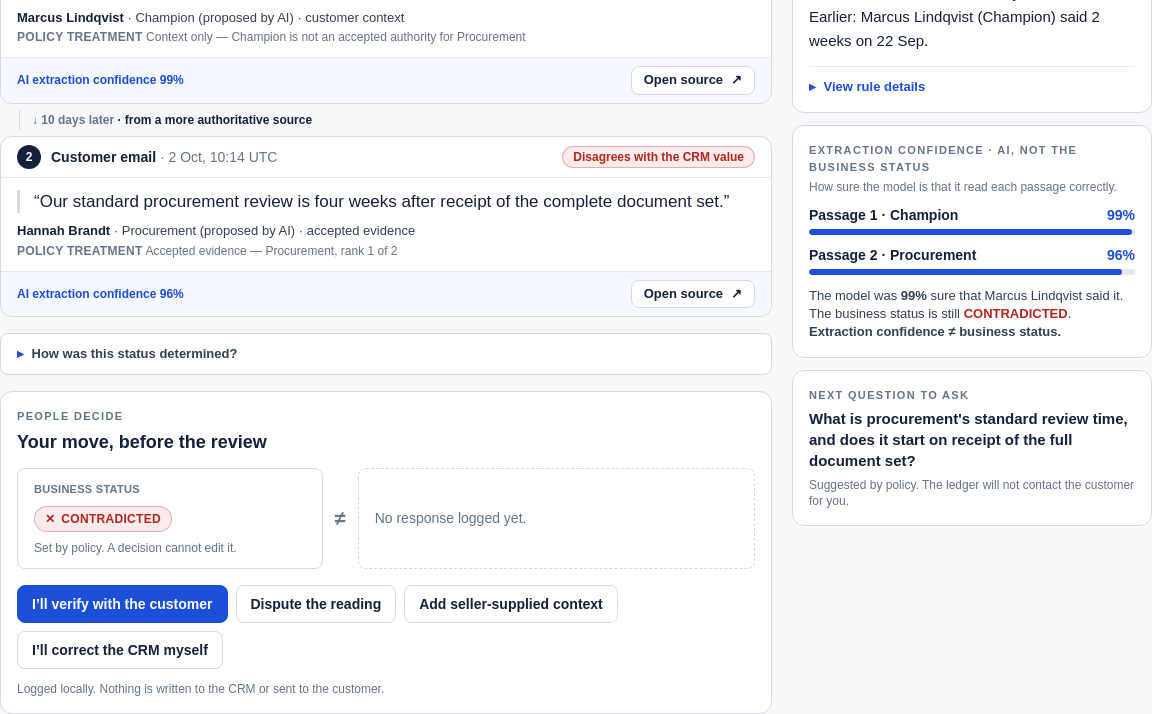
Scenario: Presentation polish › the rep dispute modal uses the agreed copy and does not imply the status changes
(page scrolled)
Click the button "Dispute the reading": coordinates (316, 604) [236,585,396,623]
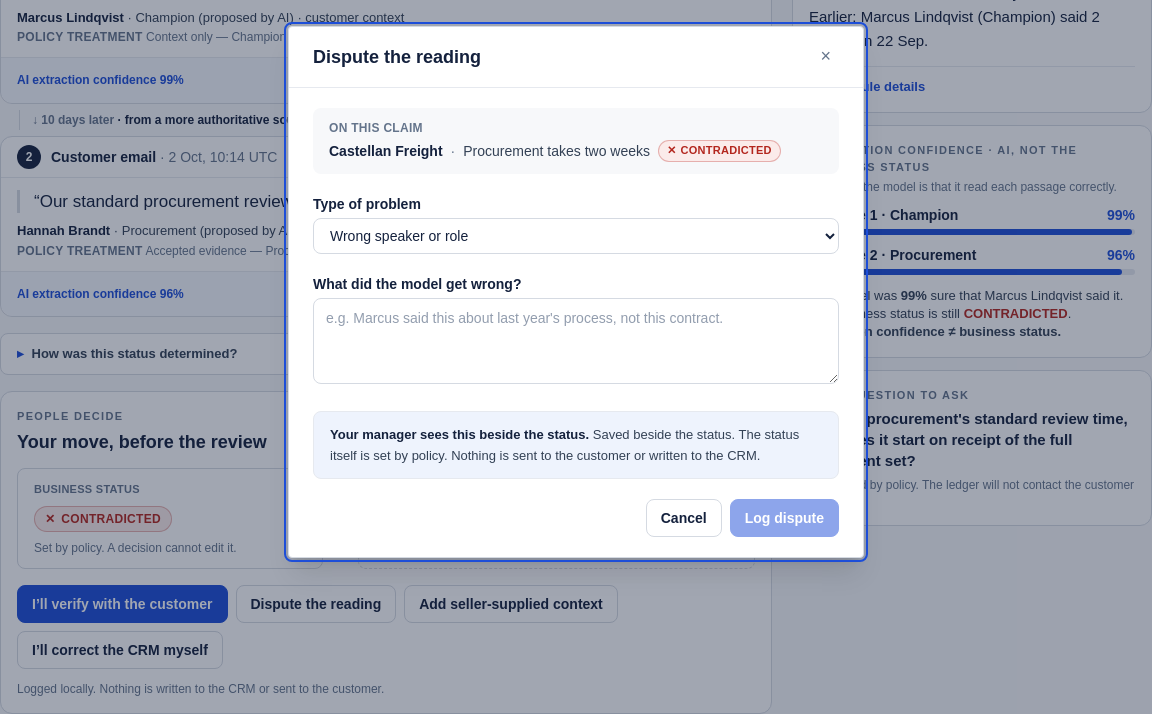
Result: the dialog "Dispute the reading" shows "Your manager sees this beside the status." at [330,427,589,442]
Result: the dialog "Dispute the reading" shows "Saved beside the status. The status itself is set by policy." at [330,427,799,463]
